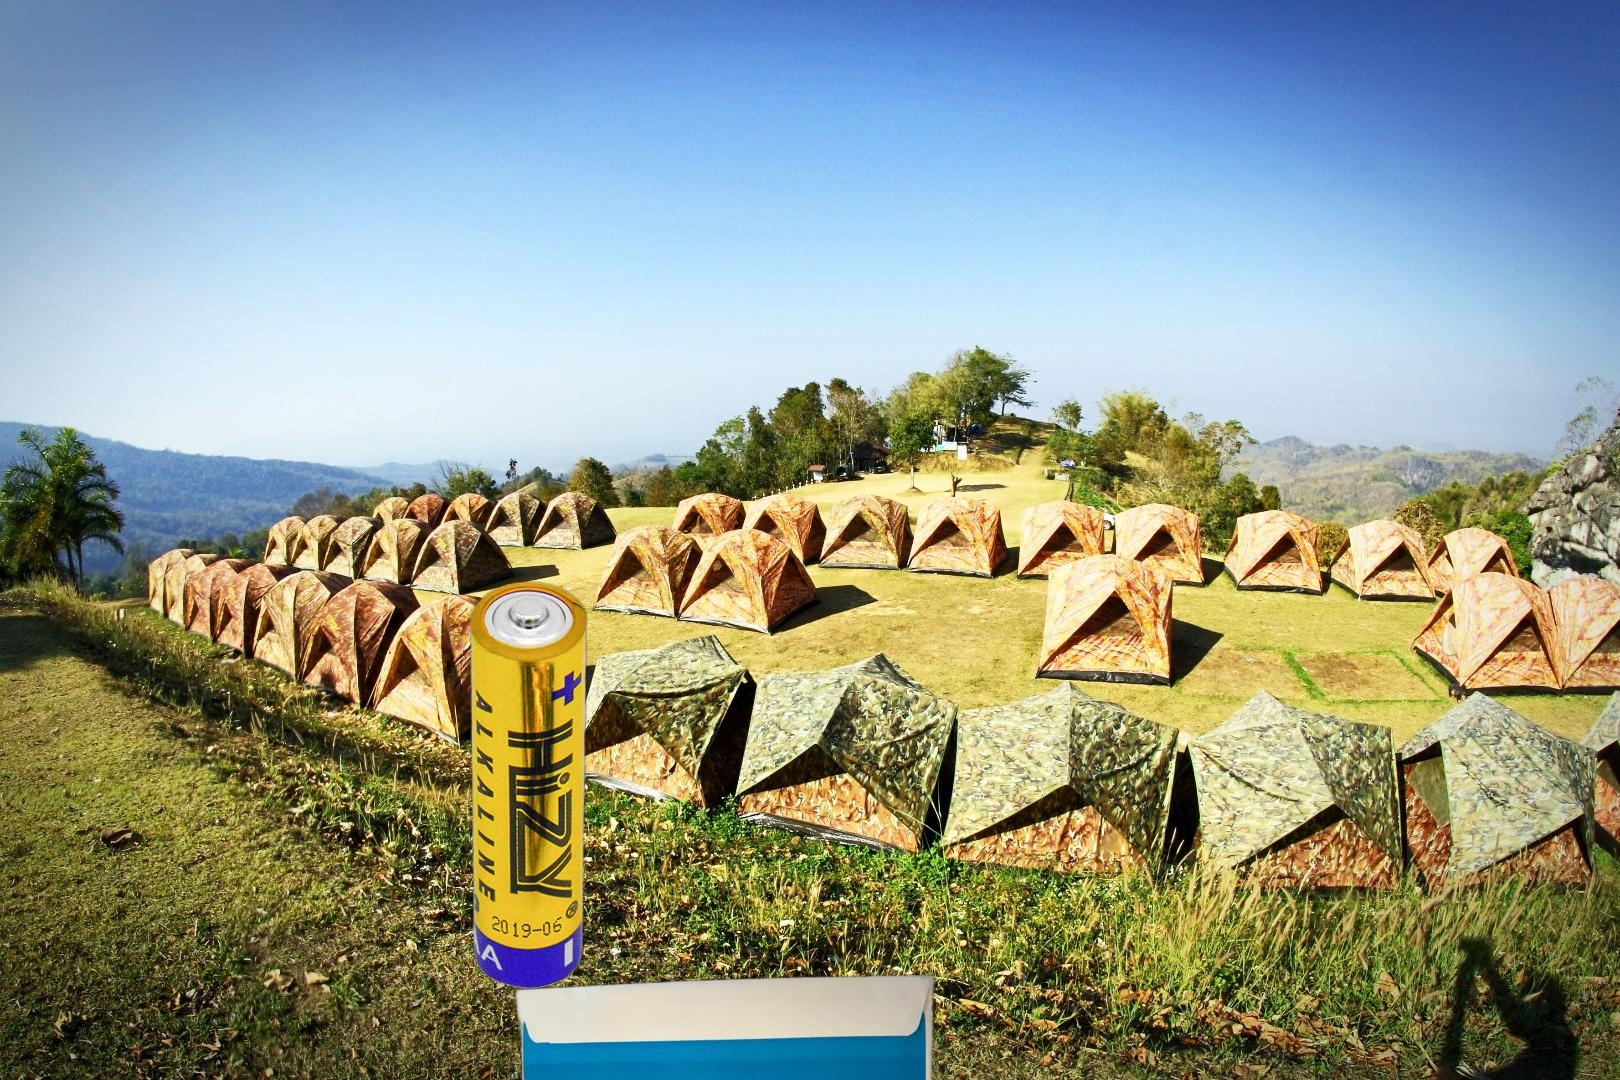battery: (278, 520, 777, 1020)
paper: (510, 972, 939, 1080)
